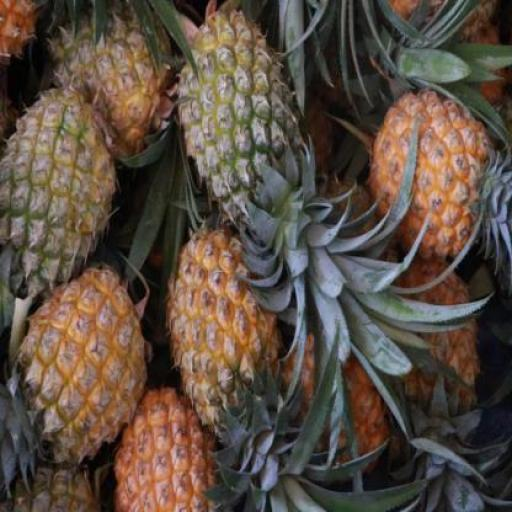------------------------------: (177, 6, 308, 229), (0, 95, 121, 293), (50, 0, 170, 158)
Pineapple - v8 v1: (22, 270, 147, 468), (166, 234, 282, 432), (369, 86, 490, 271), (111, 391, 223, 512)
